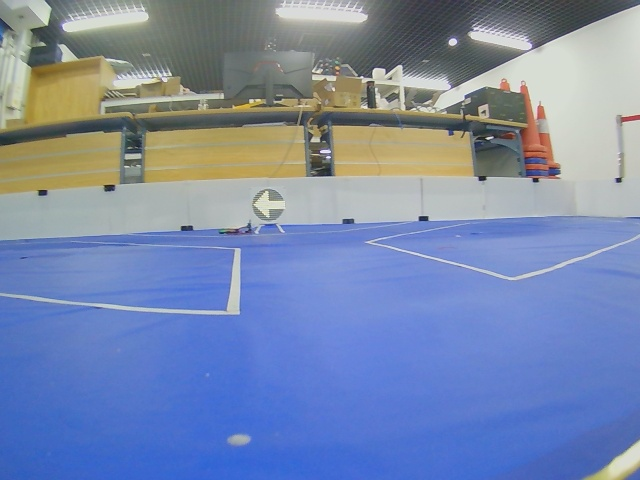left_yellow: (252, 189, 286, 222)
